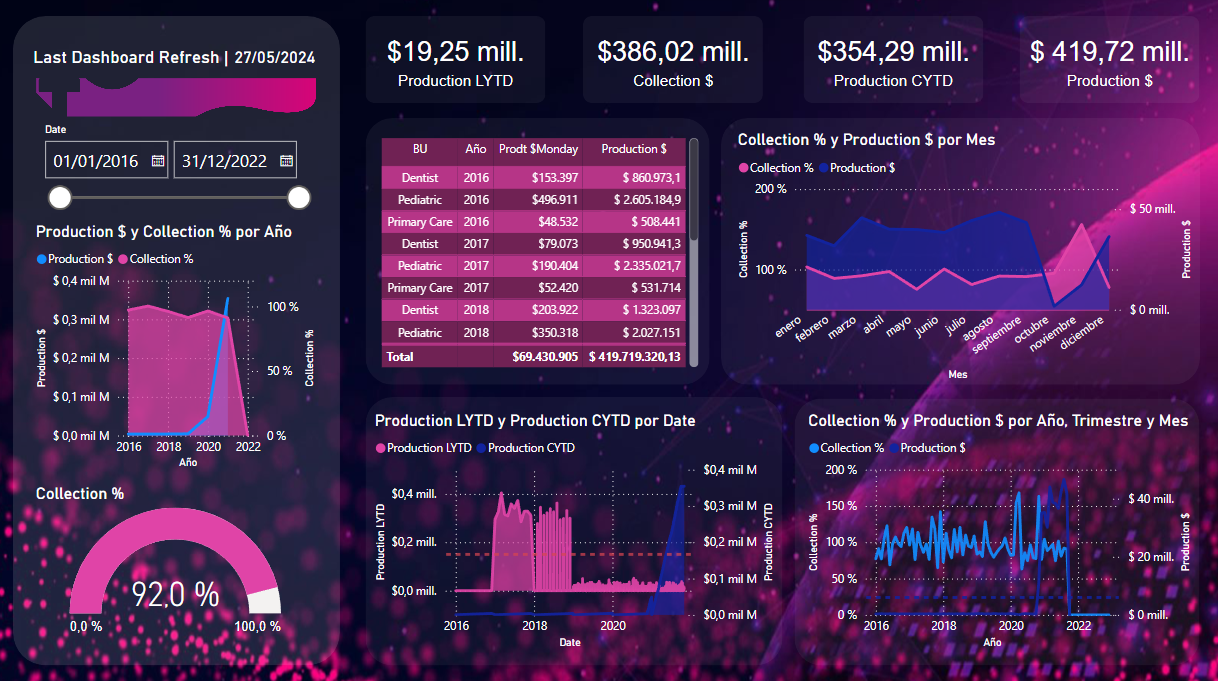

The page's visual inventory and layout, read from the dashboard file:
{"tool":"powerbi","page":{"name":"PBI Test","canvas":[1280,720],"ordinal":0},"visuals":[{"type":"card","fields":{"Values":["Min(Date_Update.Update_Date)"]},"box":[223.3,49.8,135.1,30.6],"z":0,"group":"g1"},{"type":"shape","box":[386.1,418.9,434.5,279.8],"z":0},{"type":"shape","box":[38.5,40.4,204.8,48.5],"z":1000,"group":"g1"},{"type":"shape","box":[833.1,420.4,422,278.2],"z":1000},{"type":"shape","box":[386.1,127.6,358.6,277.9],"z":2000},{"type":"shape","box":[18.8,21.9,340.7,676.8],"z":3000},{"type":"shape","box":[756.1,127.6,499.2,277.9],"z":4000},{"type":"card","fields":{"Values":["Measures_Data.Production $"]},"box":[1067.5,21.9,187.6,90.7],"z":5000},{"type":"card","fields":{"Values":["Measures_Data.Production CYTD"]},"box":[842.5,21.9,187,90.7],"z":6000},{"type":"card","fields":{"Values":["Measures_Data.Production LYTD"]},"box":[385.5,21.9,187.6,90.7],"z":7000},{"type":"shape","box":[386.1,21.9,187.6,90.7],"z":8000},{"type":"group","id":"g1","title":"Group 2","box":[38.5,40.4,319.9,48.5],"z":9000},{"type":"lineChart","fields":{"Y":["Measures_Data.Production $"],"Y2":["Measures_Data.Collection %"],"Category":["Calendario.Date.Variación.Jerarquía de fechas.Año"]},"box":[37.2,235.9,300.5,261.7],"z":10000},{"type":"lineChart","fields":{"Y":["Measures_Data.Collection %"],"Y2":["Measures_Data.Production $"],"Category":["Calendario.Date.Variación.Jerarquía de fechas.Mes"]},"box":[769,140.5,483,264.9],"z":11000},{"type":"lineChart","fields":{"Y":["Measures_Data.Collection %"],"Y2":["Measures_Data.Production $"],"Category":["Calendario.Date.Variación.Jerarquía de fechas.Año","Calendario.Date.Variación.Jerarquía de fechas.Trimestre","Calendario.Date.Variación.Jerarquía de fechas.Mes"]},"box":[842.5,432.9,407.9,251.6],"z":12000},{"type":"gauge","fields":{"Y":["Measures_Data.Collection %"]},"box":[37.5,509.5,300.1,164.1],"z":13000},{"type":"areaChart","fields":{"Category":["Daily Data.Date"],"Y":["Measures_Data.Production LYTD"],"Y2":["Measures_Data.Production CYTD"]},"box":[390.7,432.9,425.1,251.6],"z":14000},{"type":"card","fields":{"Values":["Measures_Data.Collection $"]},"box":[613.3,21.9,187.6,90.7],"z":15000},{"type":"slicer","fields":{"Values":["Calendario.Date"]},"box":[39.1,128.2,298.5,117.2],"z":16000},{"type":"shape","box":[612.7,21.9,187.6,90.7],"z":17000},{"type":"shape","box":[842.5,21.9,187.6,90.7],"z":18000},{"type":"shape","box":[1067.5,21.9,187.6,90.7],"z":19000},{"type":"image","box":[37.4,81,331.4,50],"z":20000},{"type":"tableEx","fields":{"Values":["Daily Data.BU","Calendario.Date.Variación.Jerarquía de fechas.Año","Measures_Data.Production $ Monday","Measures_Data.Production $"]},"box":[397.4,143.8,340.9,248.8],"z":21000}]}

Visuals, with their boxes in screenshot pixels (x1, y1, x2, y2), scaled from the page's 1280x720 canvas onto the 1218x681 screenshot:
card - Min(Date_Update.Update_Date): x1=212, y1=47, x2=341, y2=76
shape: x1=367, y1=396, x2=781, y2=661
shape: x1=37, y1=38, x2=232, y2=84
shape: x1=793, y1=398, x2=1194, y2=661
shape: x1=367, y1=121, x2=709, y2=384
shape: x1=18, y1=21, x2=342, y2=661
shape: x1=719, y1=121, x2=1194, y2=384
card - Measures_Data.Production $: x1=1016, y1=21, x2=1194, y2=107
card - Measures_Data.Production CYTD: x1=802, y1=21, x2=980, y2=107
card - Measures_Data.Production LYTD: x1=367, y1=21, x2=545, y2=107
shape: x1=367, y1=21, x2=546, y2=107
"Group 2" group: x1=37, y1=38, x2=341, y2=84
lineChart - Measures_Data.Production $ x Measures_Data.Collection %: x1=35, y1=223, x2=321, y2=471
lineChart - Measures_Data.Collection % x Measures_Data.Production $: x1=732, y1=133, x2=1191, y2=383
lineChart - Measures_Data.Collection % x Measures_Data.Production $: x1=802, y1=409, x2=1190, y2=647
gauge - Measures_Data.Collection %: x1=36, y1=482, x2=321, y2=637
areaChart - Daily Data.Date x Measures_Data.Production LYTD: x1=372, y1=409, x2=776, y2=647
card - Measures_Data.Collection $: x1=584, y1=21, x2=762, y2=107
slicer - Calendario.Date: x1=37, y1=121, x2=321, y2=232
shape: x1=583, y1=21, x2=762, y2=107
shape: x1=802, y1=21, x2=980, y2=107
shape: x1=1016, y1=21, x2=1194, y2=107
image: x1=36, y1=77, x2=351, y2=124
tableEx - Daily Data.BU x Calendario.Date.Variación.Jerarquía de fechas.Año: x1=378, y1=136, x2=703, y2=371
